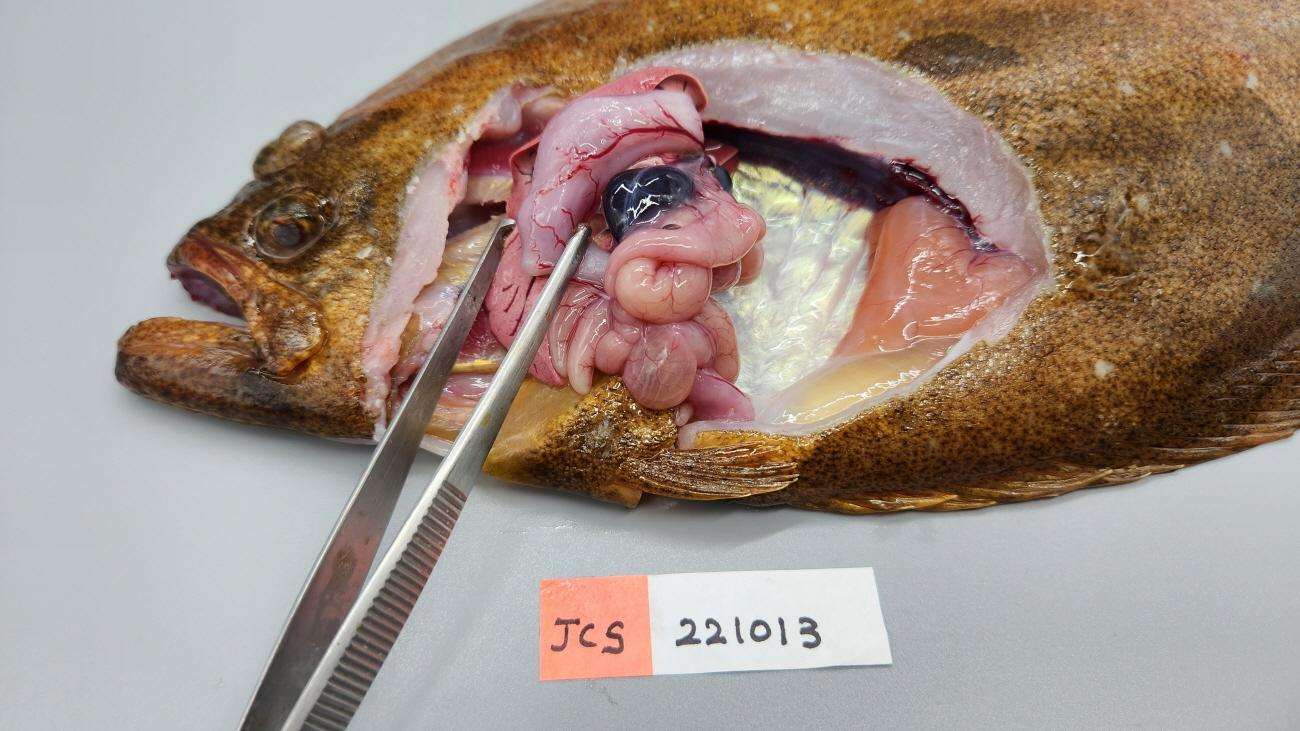VISPE: (605, 168, 690, 239)
